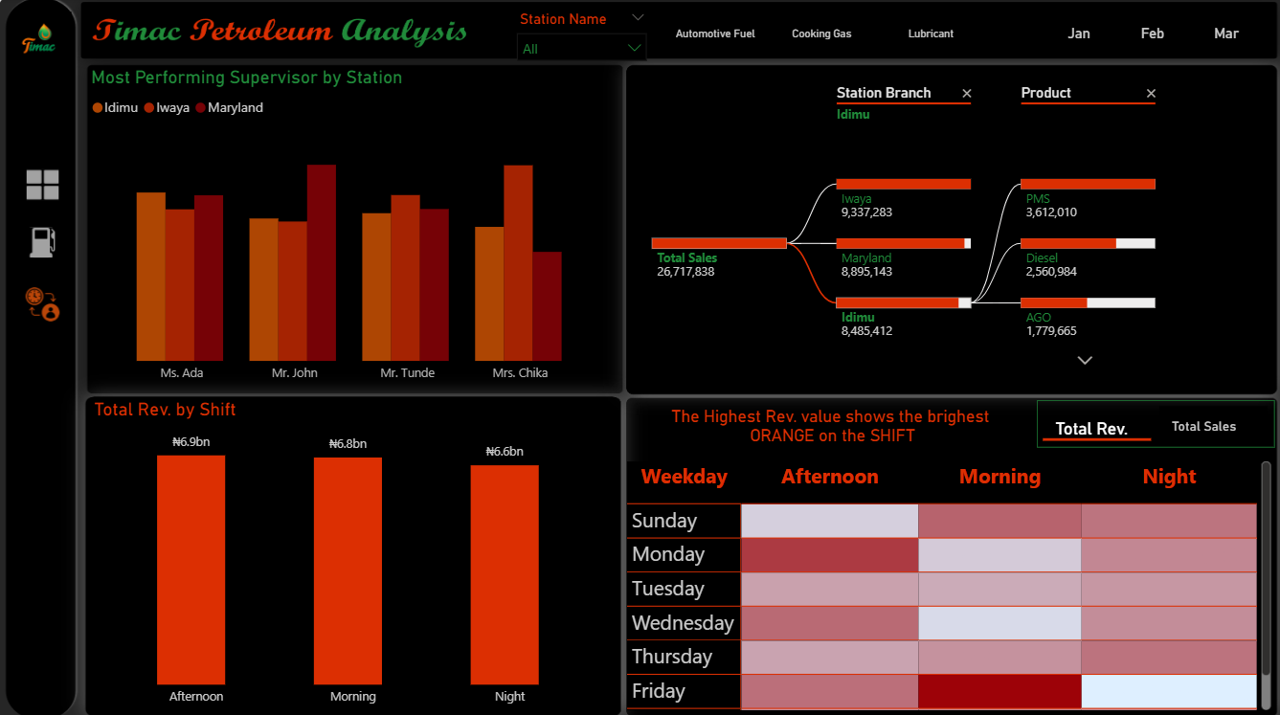

Layout of this report page (visuals, bound fields, positions):
{"tool":"powerbi","page":{"name":"Shift & Supervisors","canvas":[1280,720],"ordinal":2},"visuals":[{"type":"clusteredColumnChart","title":"Most  Performing Supervisor by Station","fields":{"Category":["Timac_Filling_Station.Supervisor"],"Series":["Timac_Filling_Station.Station_Name"],"Y":["Calculations.Total Rev."]},"box":[86.6,69.3,527.7,322.9],"z":0},{"type":"actionButton","title":"window2","box":[17.9,165.9,50.4,40.2],"z":0,"group":"g2"},{"type":"decompositionTreeVisual","fields":{"ExplainBy":["Timac_Filling_Station.Station_Name","Timac_Filling_Station.Product"],"Analyze":["Calculations.Total Qty"]},"box":[620.6,69.3,652.1,322.9],"z":1000},{"type":"actionButton","title":"station2","box":[17.9,224.3,50.4,38.2],"z":1000,"group":"g2"},{"type":"actionButton","title":"shift1","box":[17.9,283,50.4,43.9],"z":2000,"group":"g1"},{"type":"pivotTable","fields":{"Values":["Calculations.Total Rev."],"Columns":["Timac_Filling_Station.Shift"],"Rows":["Calendar.Week"]},"box":[620.6,456.8,652.1,258.3],"z":2000},{"type":"clusteredColumnChart","fields":{"Y":["Calculations.Total Rev."],"Category":["Timac_Filling_Station.Shift"]},"box":[88.2,400.1,526.1,315],"z":3000},{"type":"advancedSlicerVisual","fields":{"Values":["Rev & Qty Parameter.Rev & Qty Parameter"]},"box":[1034.2,401.1,237.8,54.4],"z":4000},{"type":"card","fields":{"Values":["Calculations.HitMap Caption"]},"box":[626.2,398.5,408.3,56.9],"z":5000},{"type":"advancedSlicerVisual","fields":{"Values":["Calendar.Month Short"]},"box":[1047.5,6.5,221.2,56.9],"z":6000},{"type":"advancedSlicerVisual","fields":{"Values":["Timac_Filling_Station.Product_Category"]},"box":[655.5,6.5,351.3,56.9],"z":7000},{"type":"slicer","fields":{"Values":["Timac_Filling_Station.Station_Name"]},"box":[505.9,6.5,149.6,55.3],"z":8000},{"type":"group","id":"g1","title":"Group 1","box":[16.3,165.9,52,161],"z":9000},{"type":"group","id":"g2","title":"Group 2","box":[16.3,165.9,52,161],"z":10000},{"type":"image","box":[7.9,6.3,69.3,74],"z":11000}]}

Visuals, with their boxes in screenshot pixels (x1, y1, x2, y2), scaled from the page's 1280x720 canvas onto the 1280x715 screenshot:
"Most  Performing Supervisor by Station" clusteredColumnChart: (left=87, top=69, right=614, bottom=389)
"window2" actionButton: (left=18, top=165, right=68, bottom=205)
decompositionTreeVisual - Timac_Filling_Station.Station_Name x Timac_Filling_Station.Product: (left=621, top=69, right=1273, bottom=389)
"station2" actionButton: (left=18, top=223, right=68, bottom=261)
"shift1" actionButton: (left=18, top=281, right=68, bottom=325)
pivotTable - Calculations.Total Rev. x Timac_Filling_Station.Shift: (left=621, top=454, right=1273, bottom=710)
clusteredColumnChart - Calculations.Total Rev. x Timac_Filling_Station.Shift: (left=88, top=397, right=614, bottom=710)
advancedSlicerVisual - Rev & Qty Parameter.Rev & Qty Parameter: (left=1034, top=398, right=1272, bottom=452)
card - Calculations.HitMap Caption: (left=626, top=396, right=1034, bottom=452)
advancedSlicerVisual - Calendar.Month Short: (left=1048, top=6, right=1269, bottom=63)
advancedSlicerVisual - Timac_Filling_Station.Product_Category: (left=656, top=6, right=1007, bottom=63)
slicer - Timac_Filling_Station.Station_Name: (left=506, top=6, right=656, bottom=61)
"Group 1" group: (left=16, top=165, right=68, bottom=325)
"Group 2" group: (left=16, top=165, right=68, bottom=325)
image: (left=8, top=6, right=77, bottom=80)
